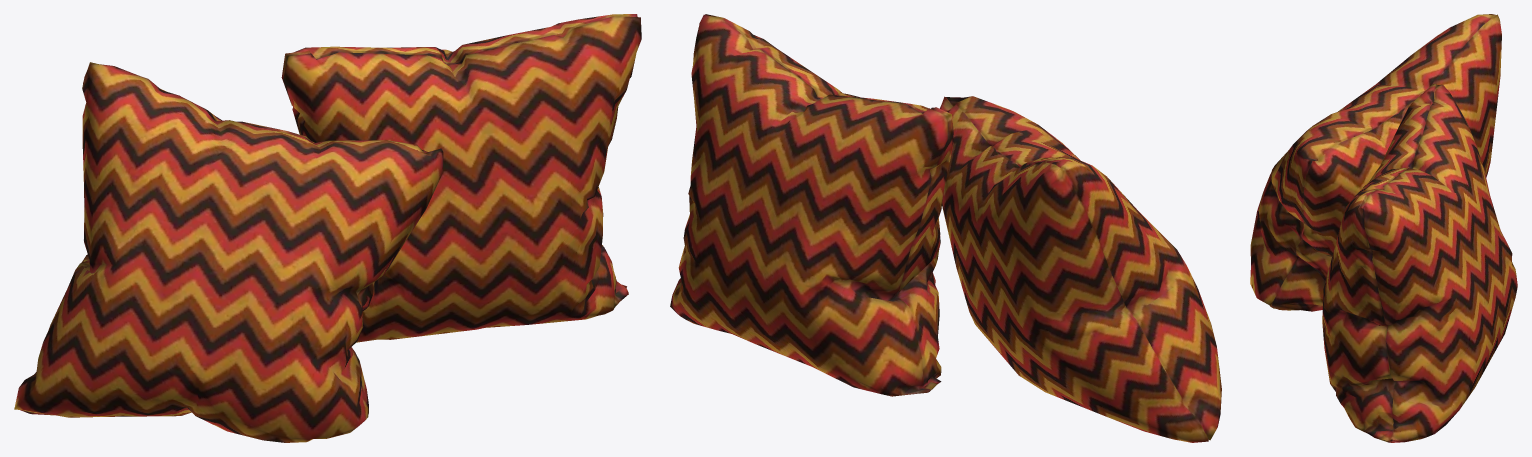
File: pillows.glb
3 views of the same model, side by side, from view 1: azimuth 30°, elevation 25°; view 2: azimuth 150°, elevation 25°; view 3: azimuth 270°, elevation 25° (orthographic). The views are drawn at different scales.
Parts seen in each view (by area): view 1: throw_pillows_01_pillow02; view 2: throw_pillows_01_pillow02; view 3: throw_pillows_01_pillow02.
Part boxes in pixels (x1=…): throw_pillows_01_pillow02: x1=14, y1=14, x2=641, y2=442; throw_pillows_01_pillow02: x1=670, y1=14, x2=1221, y2=442; throw_pillows_01_pillow02: x1=1250, y1=14, x2=1517, y2=442.
Size of the model in its own units: 0.9401 by 0.4499 by 0.4503.
Materials: 1 (1 with a texture image).
